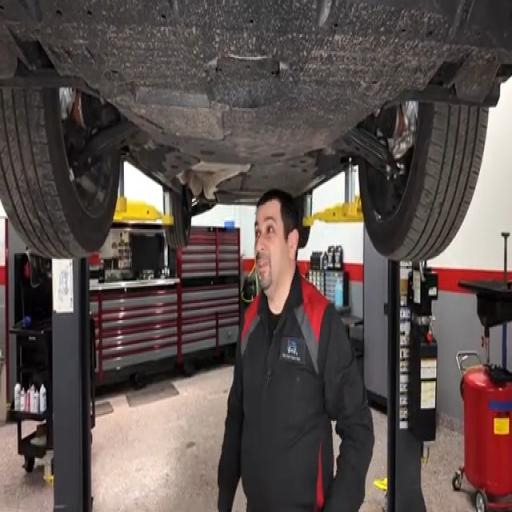tire: (359, 103, 487, 261), (0, 89, 119, 258), (166, 190, 191, 248), (296, 198, 311, 248)
wheel: (359, 103, 487, 260), (0, 89, 119, 257), (166, 187, 191, 248), (296, 195, 311, 248)
